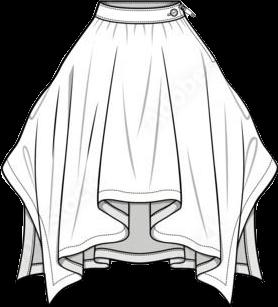Hemline: (1, 168, 277, 306)
Waistline: (92, 15, 185, 24), (98, 1, 180, 10)
